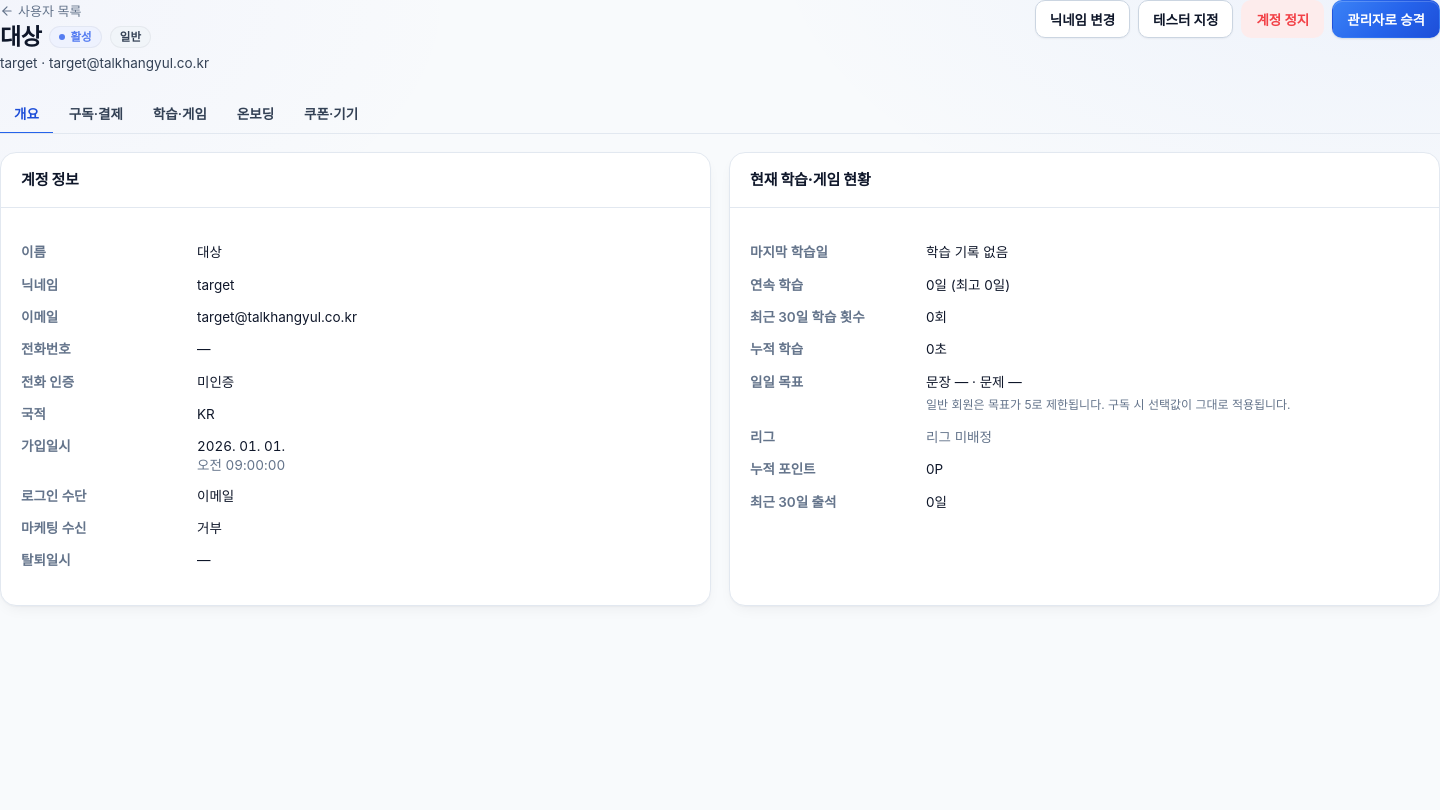
performing the promotion › shows the new state once the record refreshes
Click the button "관리자로 승격".
click(1386, 19)  # box [1332,0,1439,38]
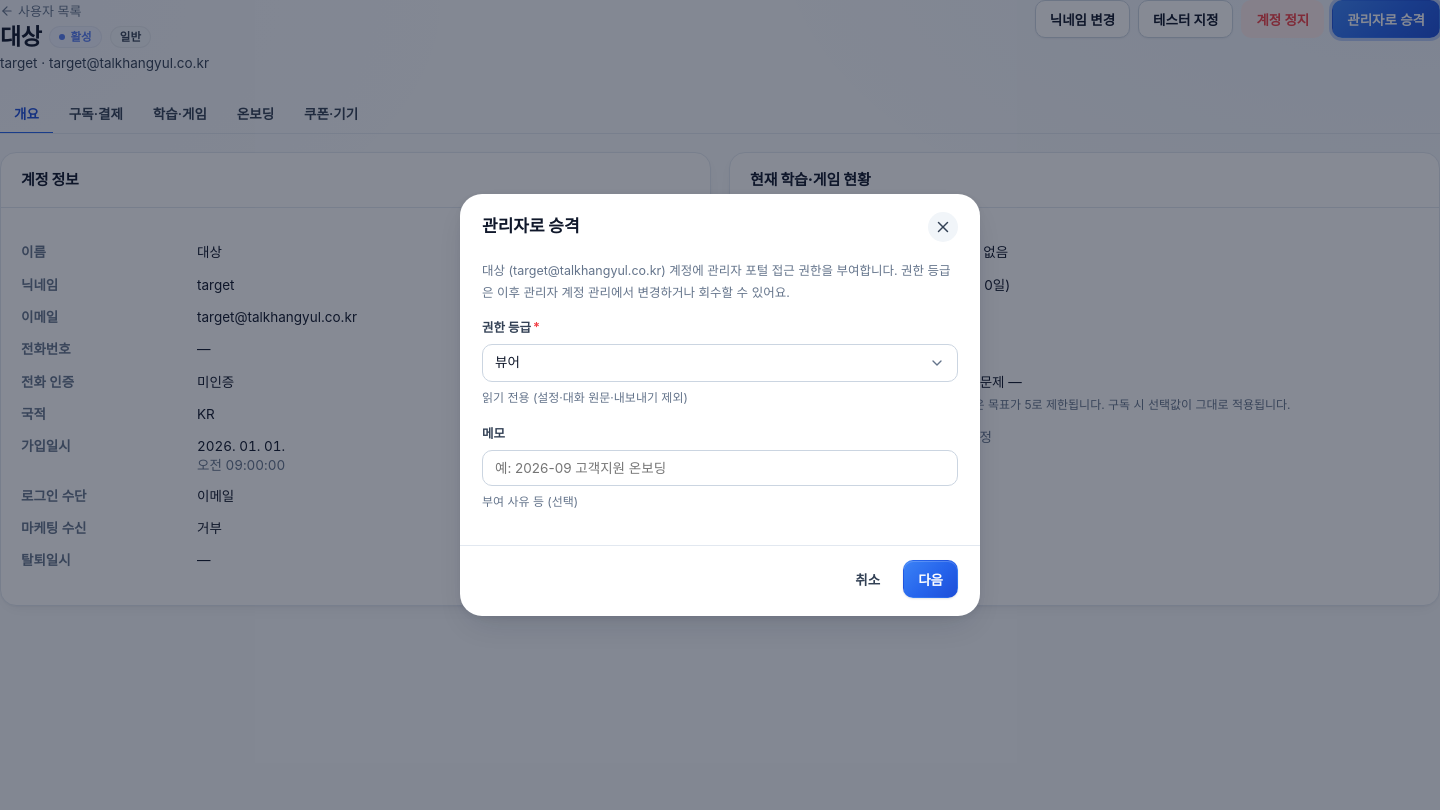
Click the button "다음".
click(931, 579)  # box [903,560,958,598]
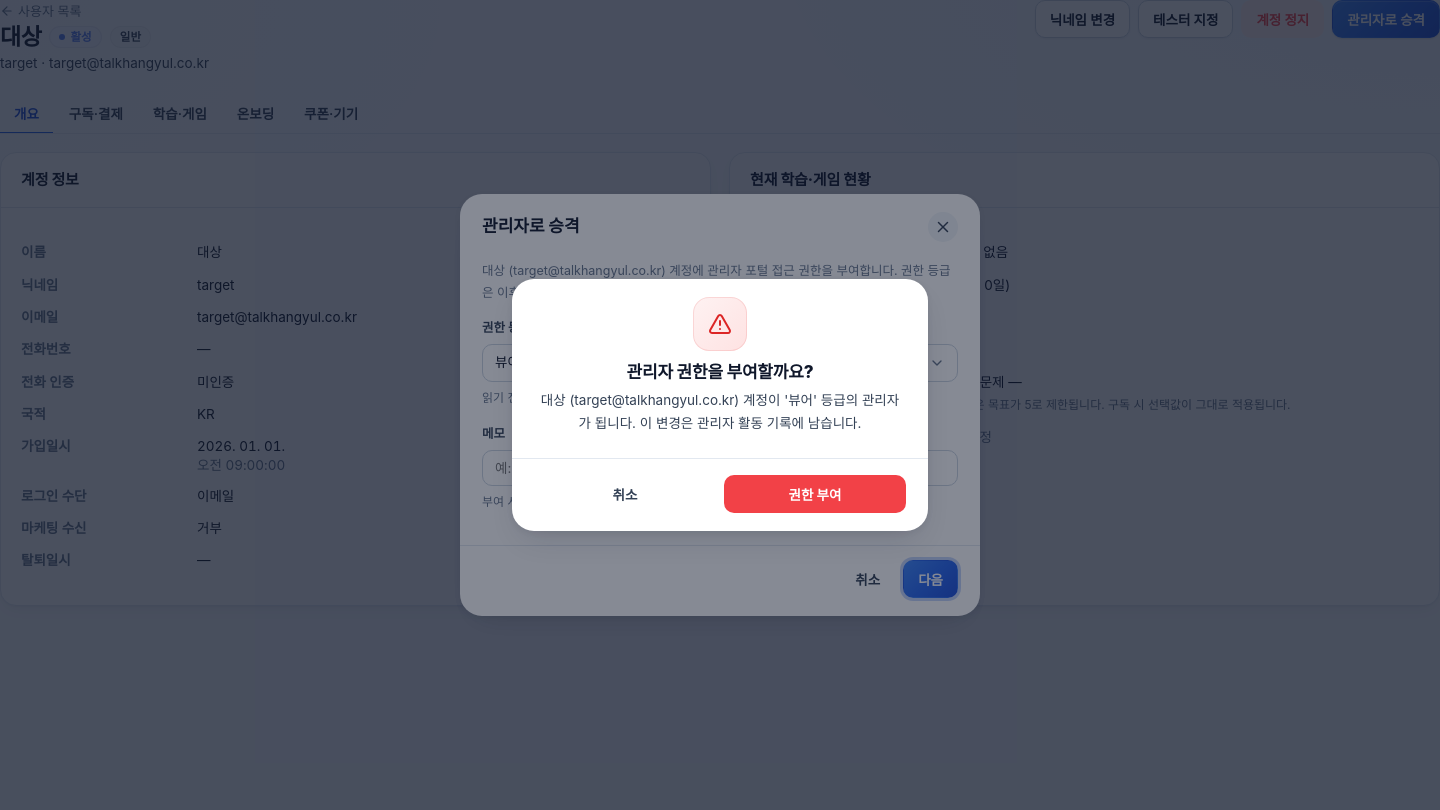
Click the button "권한 부여".
click(815, 494)  # box [724,475,906,513]
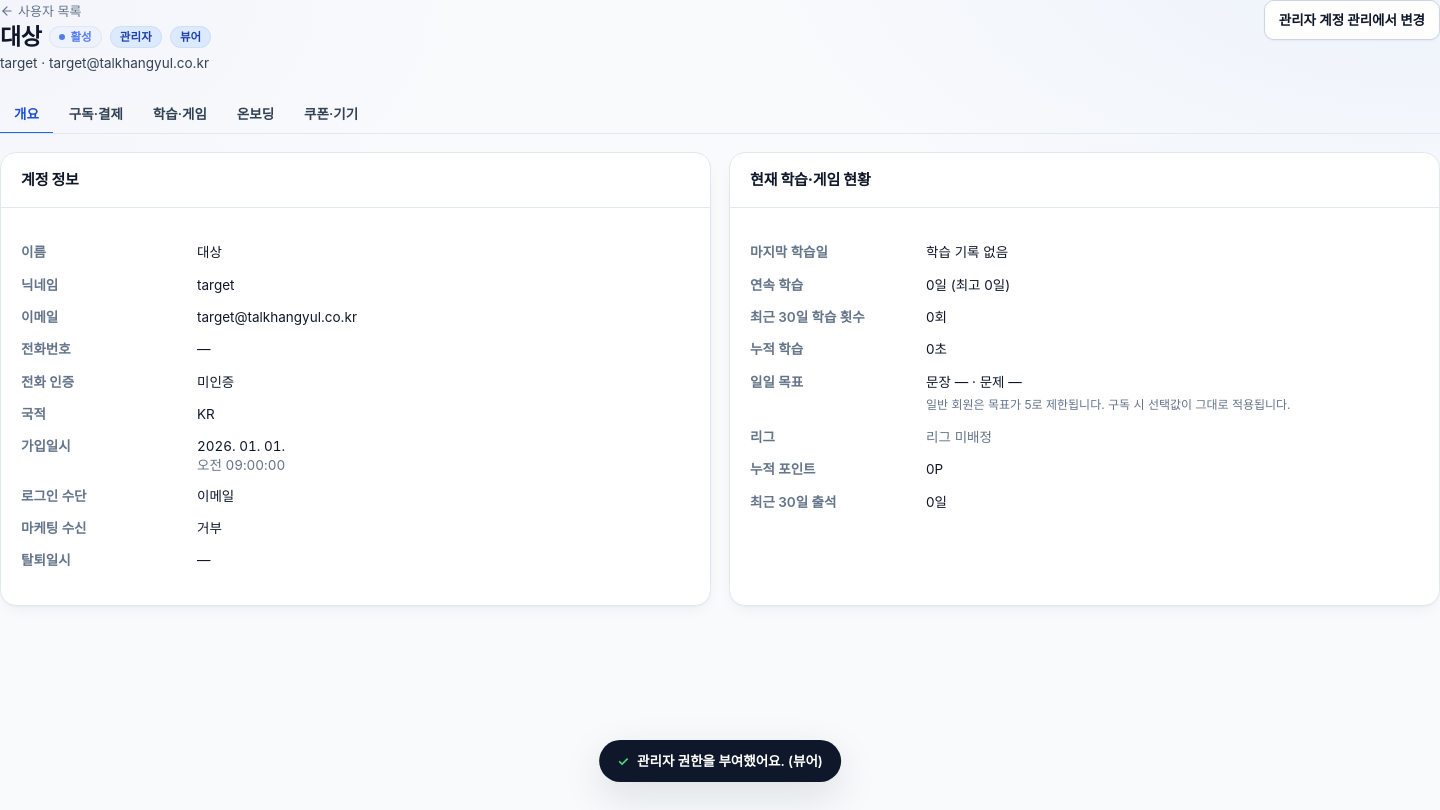
Now the text "뷰어" is shown, box [170,26,211,48]
Now the button "관리자로 승격" is gone
